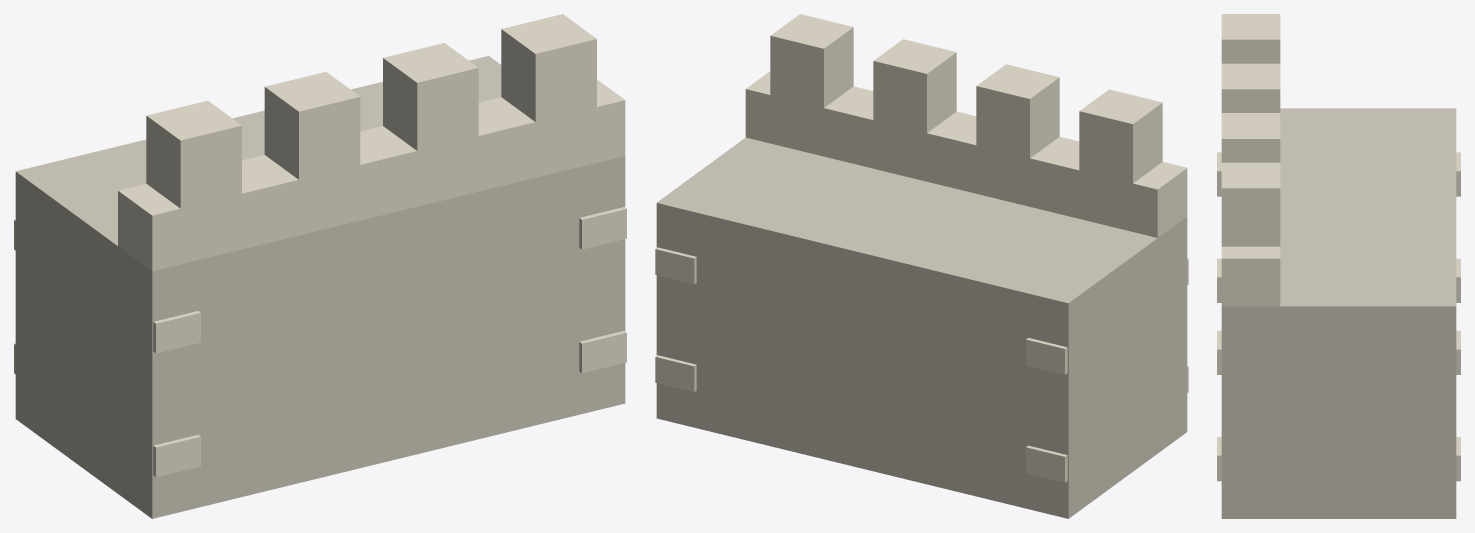
File: curtain-low-4-m.glb
3 renders of one model, left to right at view 1: azimuth 30°, elevation 25°; view 2: azimuth 150°, elevation 25°; view 3: azimuth 270°, elevation 25°, orthographic. The views are drawn at different scales.
Visible parts, largest first — view 1: curtain-low-4m; view 2: curtain-low-4m; view 3: curtain-low-4m.
Boxes of the visible parts, <box> form: curtain-low-4m: <box>14,14,626,518</box>; curtain-low-4m: <box>655,14,1188,518</box>; curtain-low-4m: <box>1217,14,1460,518</box>.
Size of the model in its own units: 4 by 3 by 2.08.
